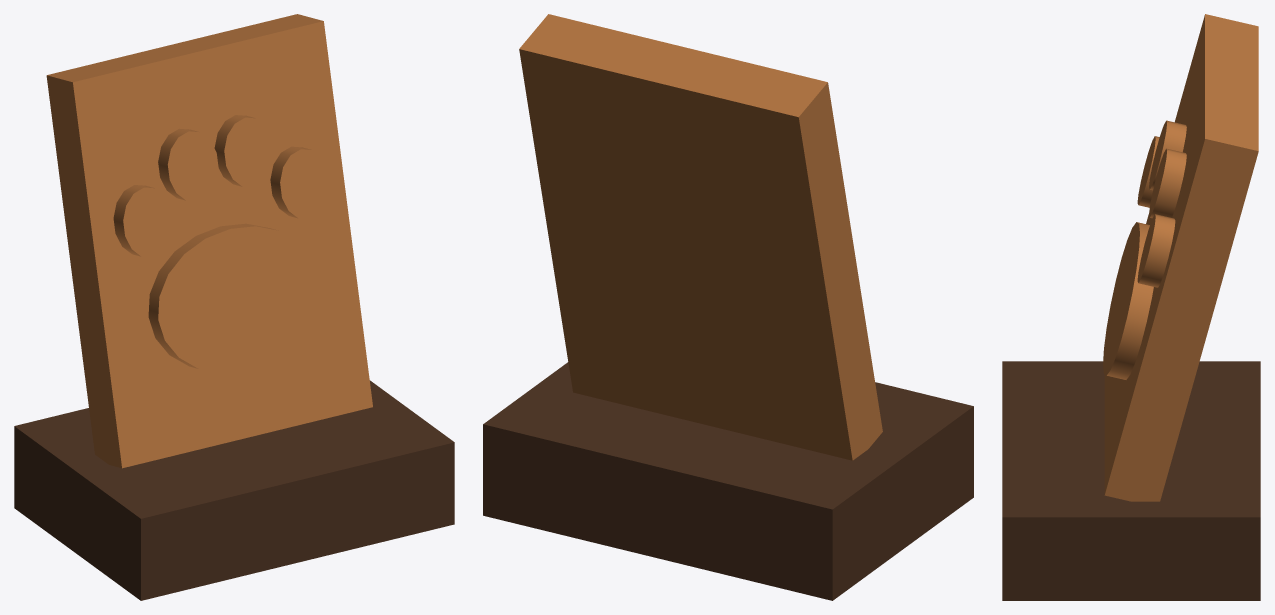
Rendered from trophy_rookie.glb.
3 views of the same model, side by side, from view 1: azimuth 30°, elevation 25°; view 2: azimuth 150°, elevation 25°; view 3: azimuth 270°, elevation 25° (orthographic). The views are drawn at different scales.
Visible parts, largest first — view 1: trophy_plate, trophy_base, trophy_paw; view 2: trophy_plate, trophy_base; view 3: trophy_base, trophy_plate, trophy_paw.
Part boxes in pixels (box(x1,y1,x2,y2)): trophy_plate: box(46, 14, 372, 468); trophy_base: box(14, 380, 454, 600); trophy_paw: box(113, 115, 330, 373); trophy_plate: box(519, 14, 882, 460); trophy_base: box(483, 362, 973, 600); trophy_base: box(1002, 361, 1260, 600); trophy_plate: box(1104, 14, 1258, 501); trophy_paw: box(1103, 120, 1186, 379).
Bounding box in the file's own units: 0.2 × 0.2669 × 0.14.
